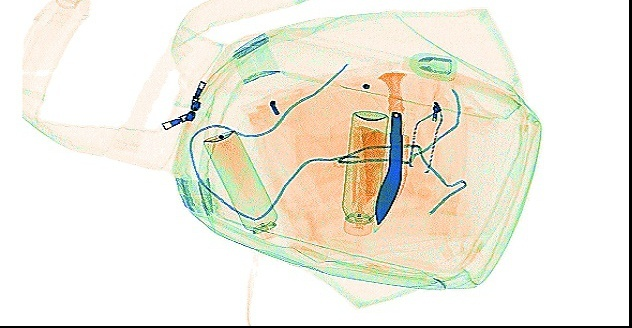knife: (370, 70, 409, 232)
pressure: (203, 128, 276, 239), (339, 107, 388, 236)
